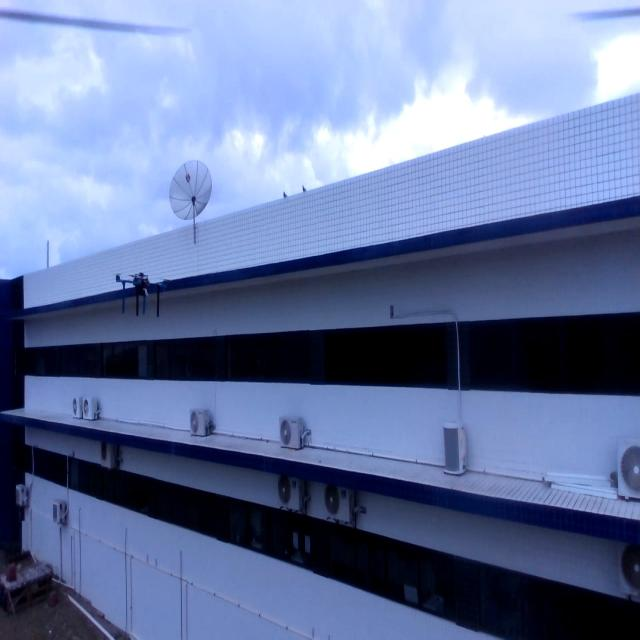-uav-: (109, 267, 170, 326)
